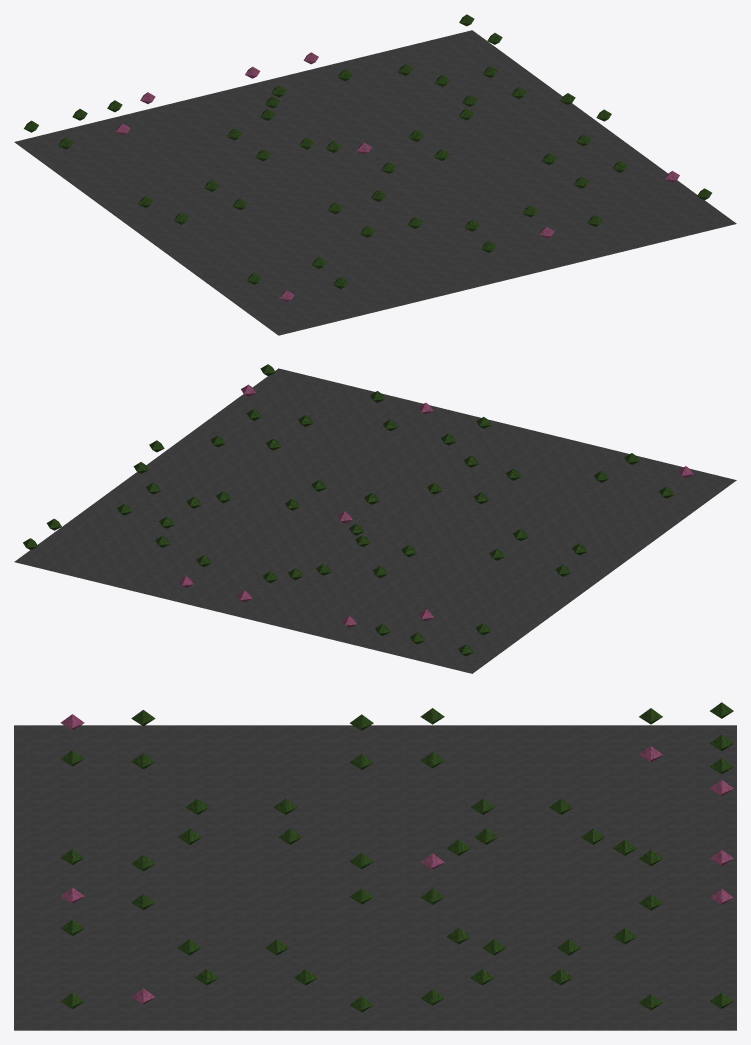
File: cidade_S04_03_lod.gltf
The picture shows the model from 3 angles, top to bottom: view 1: azimuth 30°, elevation 25°; view 2: azimuth 150°, elevation 25°; view 3: azimuth 270°, elevation 25°; orthographic projection. The views are drawn at different scales.
Visible parts, largest first — view 1: S04_03_Chao_LOD2, S04_03_Vegetacao_LOD2; view 2: S04_03_Chao_LOD2, S04_03_Vegetacao_LOD2; view 3: S04_03_Chao_LOD2, S04_03_Vegetacao_LOD2.
Boxes of the visible parts, x1,y1,x2,y2 form: S04_03_Chao_LOD2: [14, 30, 736, 335]; S04_03_Vegetacao_LOD2: [24, 14, 711, 302]; S04_03_Chao_LOD2: [14, 368, 736, 673]; S04_03_Vegetacao_LOD2: [23, 364, 693, 656]; S04_03_Chao_LOD2: [14, 725, 736, 1030]; S04_03_Vegetacao_LOD2: [60, 702, 733, 1012].
Size of the model in its own units: 100 by 4.73 by 100.
Materials: 3 (3 with a texture image).
